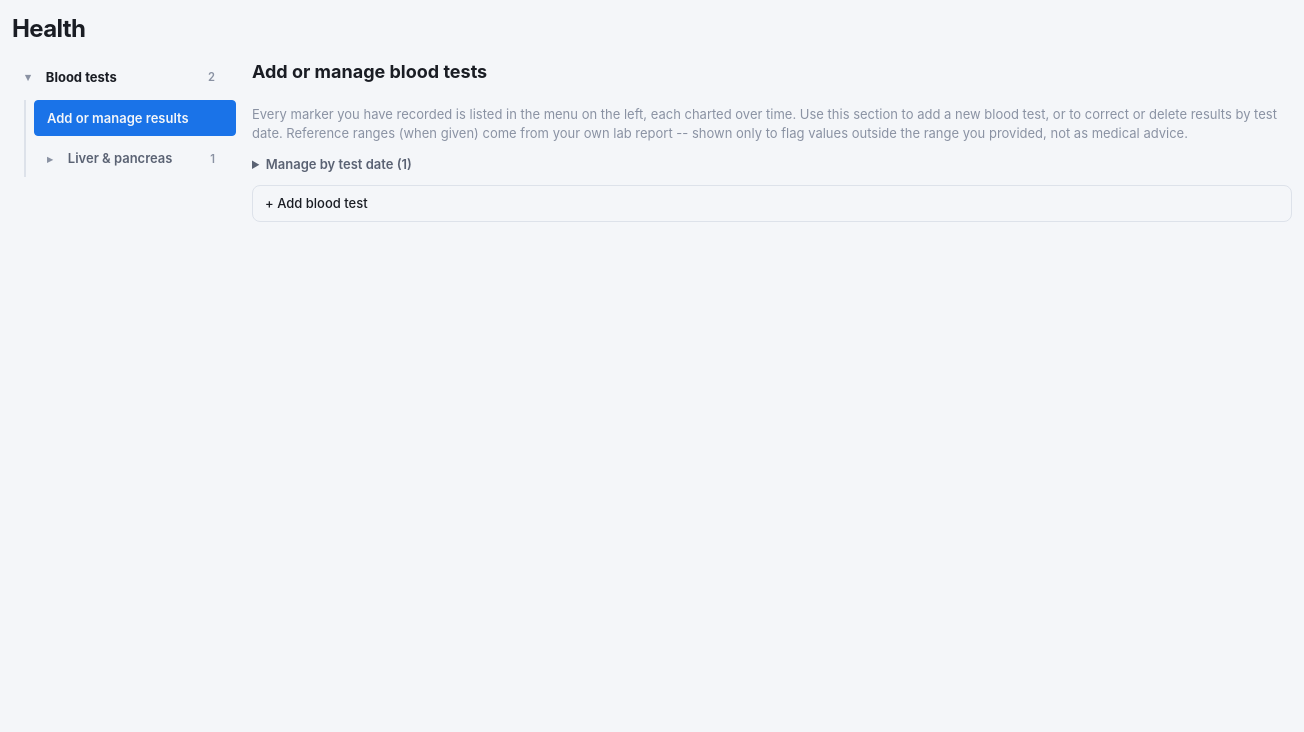
it: HealthPage › lists each blood marker under Blood tests > category and charts the selected one
This screenshot has width=1304, height=732.
Click the button "▸ Liver & pancreas 1".
click(135, 159)  # box top-left (34, 140), bottom-right (236, 177)
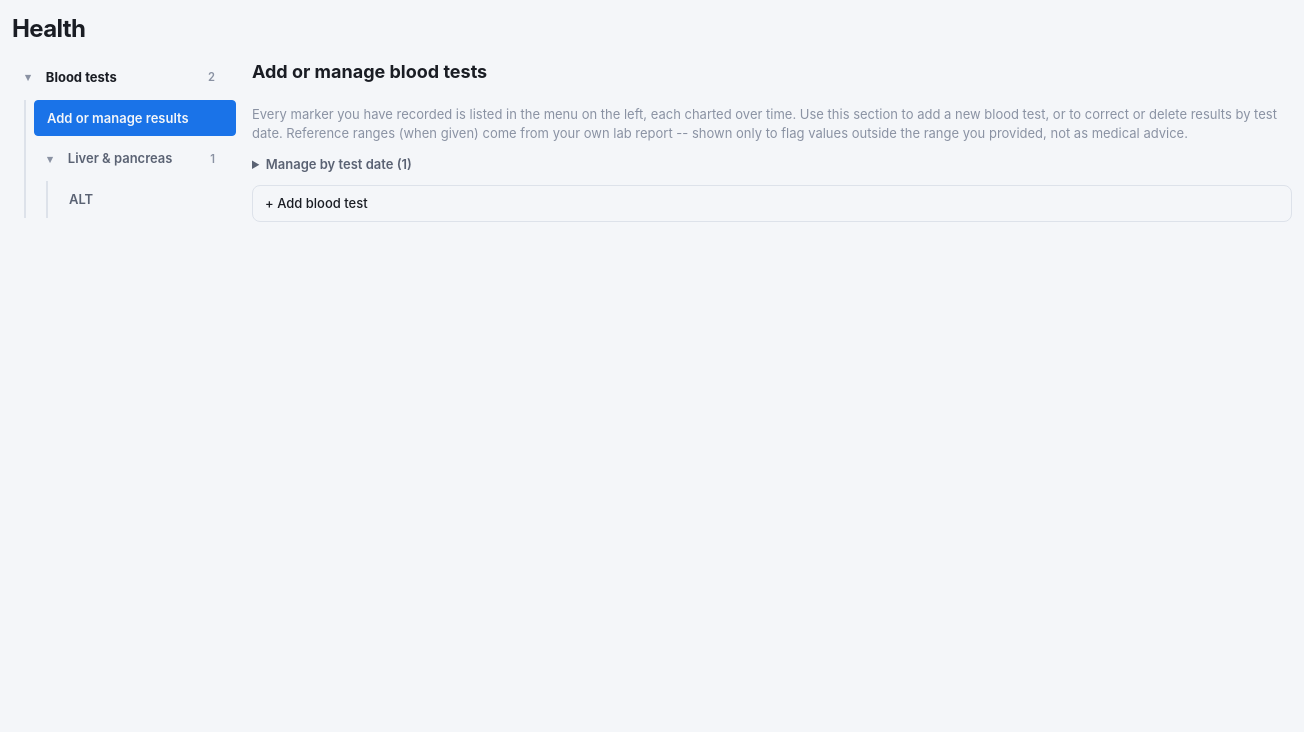
Click the button "ALT".
click(146, 200)  # box top-left (56, 181), bottom-right (236, 218)
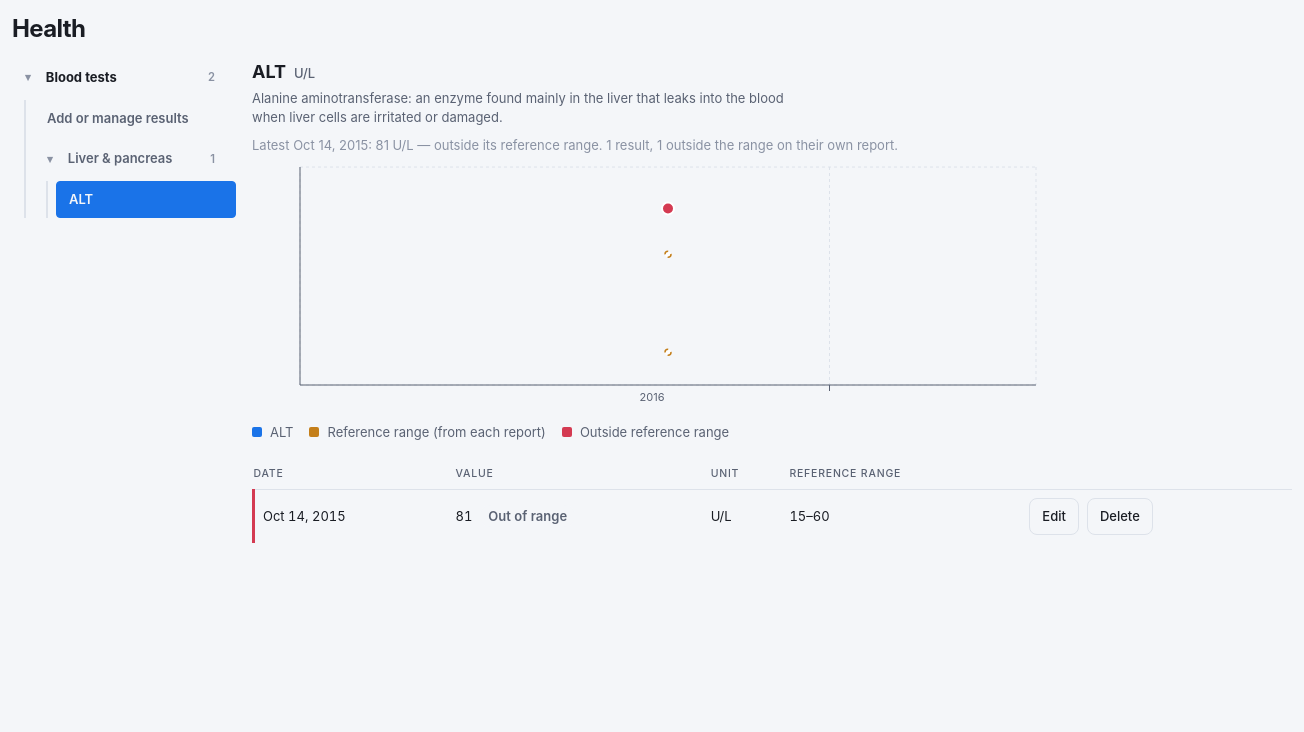
Expected: the heading "ALT U/L" is shown, top-left (252, 61), bottom-right (315, 82)
Expected: the text "1 result, 1 outside the range" is shown, top-left (252, 137), bottom-right (898, 153)
